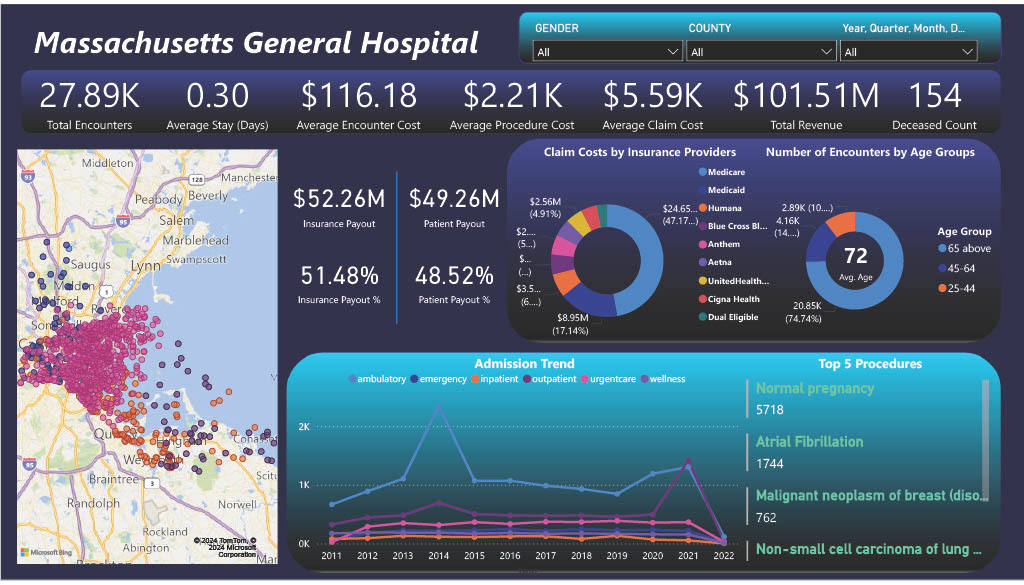

The page's visual inventory and layout, read from the dashboard file:
{"tool":"powerbi","page":{"name":"Page 1","canvas":[1280,720],"ordinal":0},"visuals":[{"type":"card","title":"Total","fields":{"Values":["CountNonNull(encounters.Id)"]},"box":[32,64,160,112],"z":0},{"type":"card","fields":{"Values":["Avg(encounters.Stay)"]},"box":[192,64,160,112],"z":1000},{"type":"card","fields":{"Values":["Avg(encounters.BASE_ENCOUNTER_COST)"]},"box":[352,64,192,112],"z":2000},{"type":"card","fields":{"Values":["Avg(encounters.TOTAL_CLAIM_COST)"]},"box":[736,64,160,112],"z":3000},{"type":"card","fields":{"Values":["Sum(encounters.TOTAL_CLAIM_COST)"]},"box":[896,64,224,112],"z":4000},{"type":"card","fields":{"Values":["CountNonNull(patients.Id)"]},"box":[1088,64,160,112],"z":5000},{"type":"slicer","fields":{"Values":["datetable.Date.Variation.Date Hierarchy.Year","datetable.Date.Variation.Date Hierarchy.Quarter","datetable.Date.Variation.Date Hierarchy.Month","datetable.Date.Variation.Date Hierarchy.Day"]},"box":[1040,16,192,64],"z":6000},{"type":"donutChart","fields":{"Category":["patients.Age Group"],"Y":["CountNonNull(encounters.Id)"]},"box":[960,192,304,256],"z":7000},{"type":"multiRowCard","title":"Top 5 Procedures","fields":{"Values":["procedures.REASONDESCRIPTION","CountNonNull(procedures.ENCOUNTER)"]},"box":[928,464,313,236],"z":8000},{"type":"donutChart","fields":{"Category":["payers.NAME"],"Y":["Sum(encounters.TOTAL_CLAIM_COST)"]},"box":[640,192,336,256],"z":9000},{"type":"lineChart","fields":{"Y":["CountNonNull(encounters.Id)"],"Series":["encounters.ENCOUNTERCLASS"],"Category":["datetable.Date.Variation.Date Hierarchy.Year"]},"box":[368,448,560,272],"z":10000},{"type":"slicer","fields":{"Values":["patients.COUNTY"]},"box":[848,16,208,64],"z":11000},{"type":"map","fields":{"Series":["patients.COUNTY"],"Y":["patients.LAT"],"X":["patients.LON"]},"box":[16,176,336,528],"z":12000},{"type":"slicer","fields":{"Values":["patients.GENDER"]},"box":[656,16,208,61],"z":13000},{"type":"card","fields":{"Values":["Avg(patients.Age)"]},"box":[1024,288,92,64],"z":14000},{"type":"textbox","box":[32,16,576,64],"z":15000},{"type":"card","fields":{"Values":["Avg(procedures.BASE_COST)"]},"box":[544,64,192,112],"z":16000},{"type":"textbox","box":[944,168,288,32],"z":17000},{"type":"card","fields":{"Values":["encounters.InsuranceAmount"]},"box":[352,192,144,112],"z":18000},{"type":"card","fields":{"Values":["encounters.PatientAmount"]},"box":[496,192,144,112],"z":19000},{"type":"card","fields":{"Values":["encounters.PercentagePatientAmount"]},"box":[496,288,144,112],"z":20000},{"type":"card","fields":{"Values":["encounters.PercentageInsuranceAmount"]},"box":[352,288,144,112],"z":21000},{"type":"shape","box":[448,208,96,192],"z":22000},{"type":"textbox","box":[1008,432,160,32],"z":23000},{"type":"textbox","box":[560,432,192,48],"z":24000},{"type":"textbox","box":[656,168,288,30],"z":25000}]}

Visuals, with their boxes in screenshot pixels (x1, y1, x2, y2), scaled from the page's 1280x720 canvas onto the 1024x585 screenshot:
"Total" card: <bbox>26, 52, 154, 143</bbox>
card - Avg(encounters.Stay): <bbox>154, 52, 282, 143</bbox>
card - Avg(encounters.BASE_ENCOUNTER_COST): <bbox>282, 52, 435, 143</bbox>
card - Avg(encounters.TOTAL_CLAIM_COST): <bbox>589, 52, 717, 143</bbox>
card - Sum(encounters.TOTAL_CLAIM_COST): <bbox>717, 52, 896, 143</bbox>
card - CountNonNull(patients.Id): <bbox>870, 52, 998, 143</bbox>
slicer - datetable.Date.Variation.Date Hierarchy.Year x datetable.Date.Variation.Date Hierarchy.Quarter: <bbox>832, 13, 986, 65</bbox>
donutChart - patients.Age Group x CountNonNull(encounters.Id): <bbox>768, 156, 1011, 364</bbox>
"Top 5 Procedures" multiRowCard: <bbox>742, 377, 993, 569</bbox>
donutChart - payers.NAME x Sum(encounters.TOTAL_CLAIM_COST): <bbox>512, 156, 781, 364</bbox>
lineChart - CountNonNull(encounters.Id) x encounters.ENCOUNTERCLASS: <bbox>294, 364, 742, 584</bbox>
slicer - patients.COUNTY: <bbox>678, 13, 845, 65</bbox>
map - patients.COUNTY x patients.LAT: <bbox>13, 143, 282, 572</bbox>
slicer - patients.GENDER: <bbox>525, 13, 691, 63</bbox>
card - Avg(patients.Age): <bbox>819, 234, 893, 286</bbox>
textbox: <bbox>26, 13, 486, 65</bbox>
card - Avg(procedures.BASE_COST): <bbox>435, 52, 589, 143</bbox>
textbox: <bbox>755, 136, 986, 162</bbox>
card - encounters.InsuranceAmount: <bbox>282, 156, 397, 247</bbox>
card - encounters.PatientAmount: <bbox>397, 156, 512, 247</bbox>
card - encounters.PercentagePatientAmount: <bbox>397, 234, 512, 325</bbox>
card - encounters.PercentageInsuranceAmount: <bbox>282, 234, 397, 325</bbox>
shape: <bbox>358, 169, 435, 325</bbox>
textbox: <bbox>806, 351, 934, 377</bbox>
textbox: <bbox>448, 351, 602, 390</bbox>
textbox: <bbox>525, 136, 755, 161</bbox>
